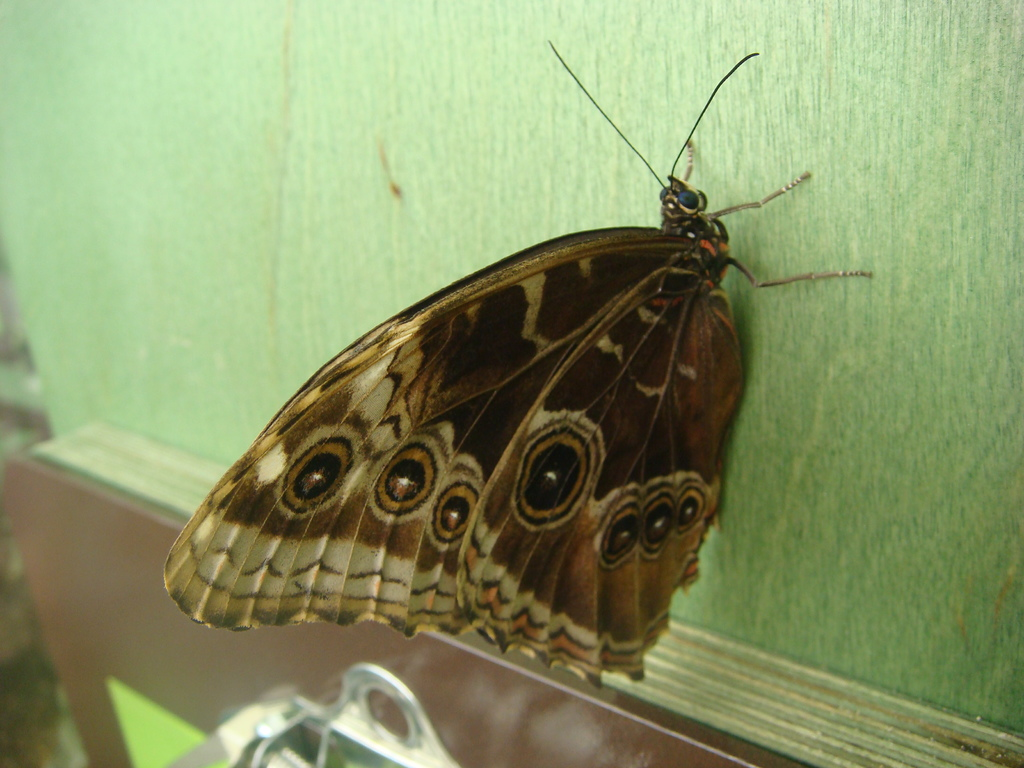Butterfly: (165, 156, 816, 671)
